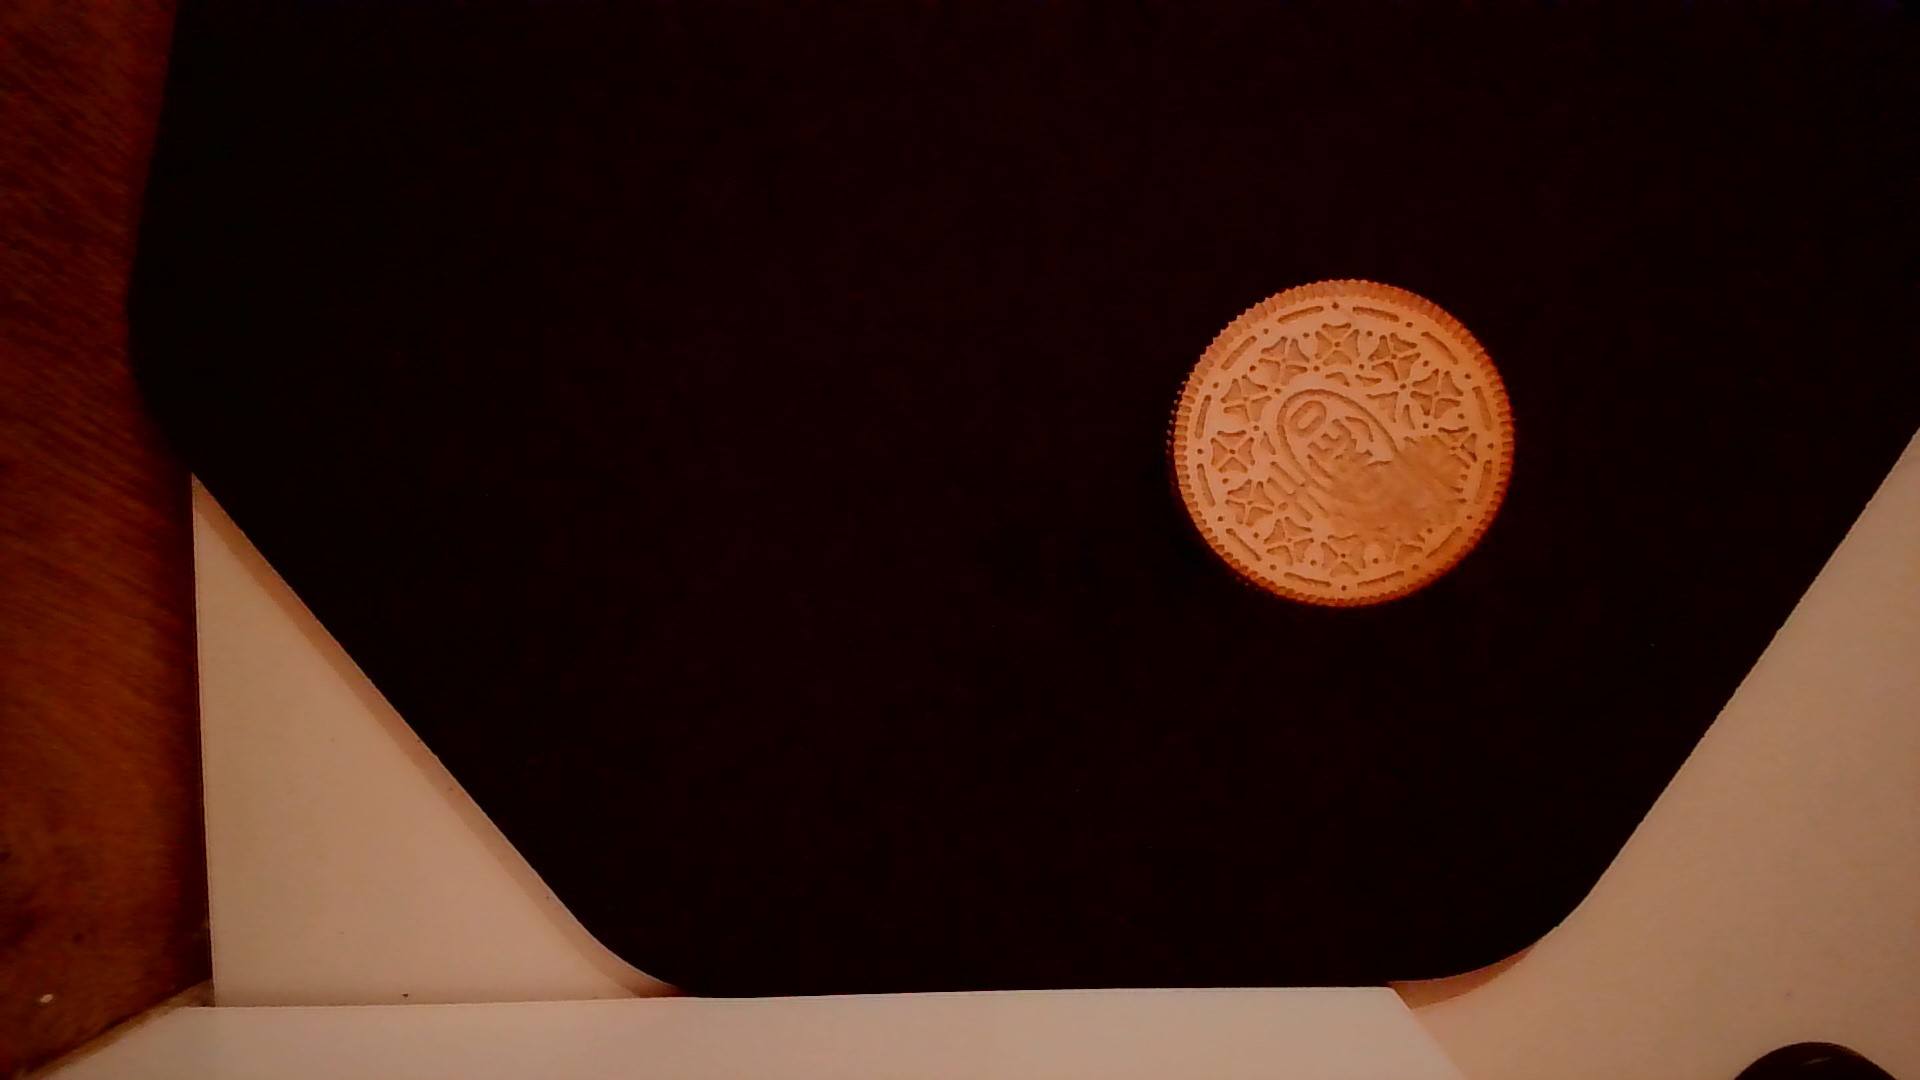Effacé: (1341, 426, 1464, 549)
Oréo: (1158, 268, 1523, 620)
